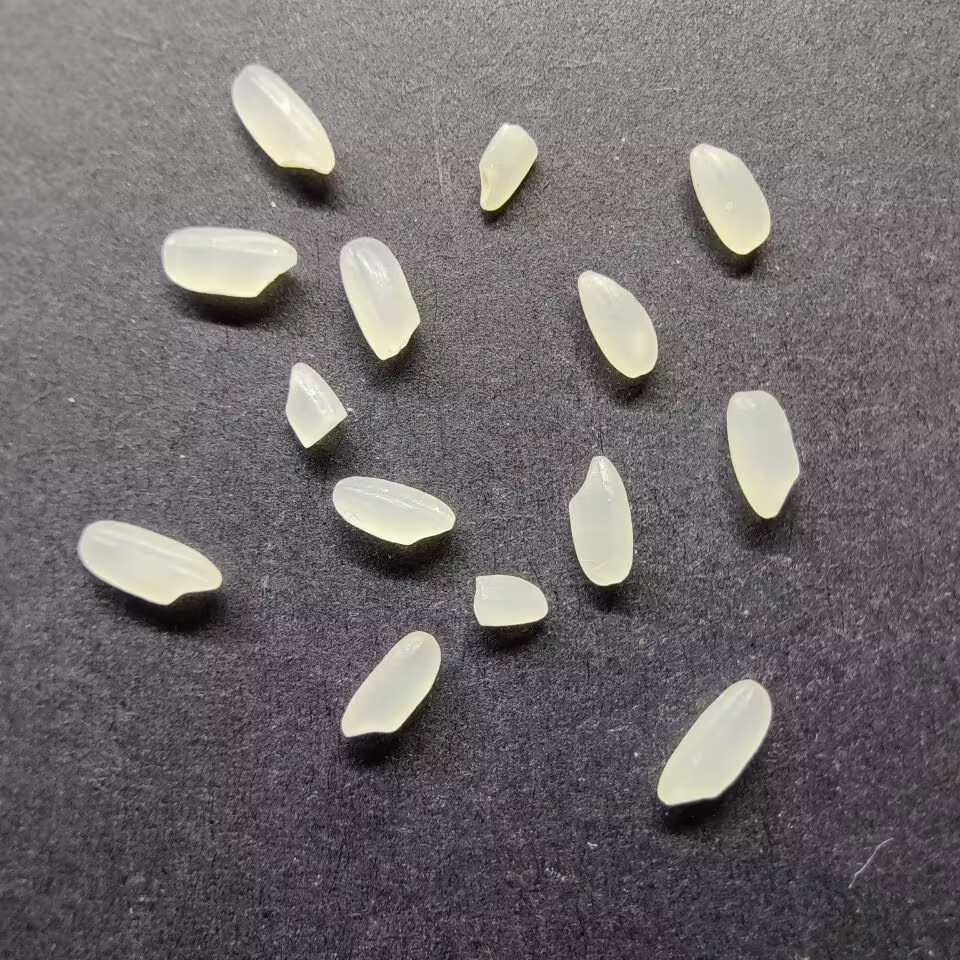broken: (476, 119, 540, 212), (282, 359, 348, 449), (471, 571, 549, 629)
rice: (655, 679, 775, 807), (76, 518, 223, 609), (229, 63, 337, 177), (339, 626, 441, 740), (337, 236, 422, 361), (159, 225, 299, 298), (725, 388, 799, 520), (687, 143, 773, 255), (565, 453, 635, 587), (575, 268, 659, 379), (330, 475, 458, 547)
